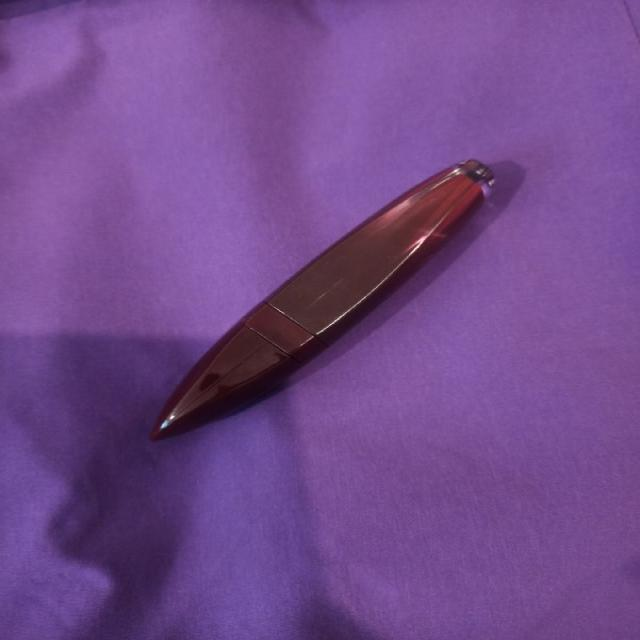lipstick: (148, 157, 495, 441)
